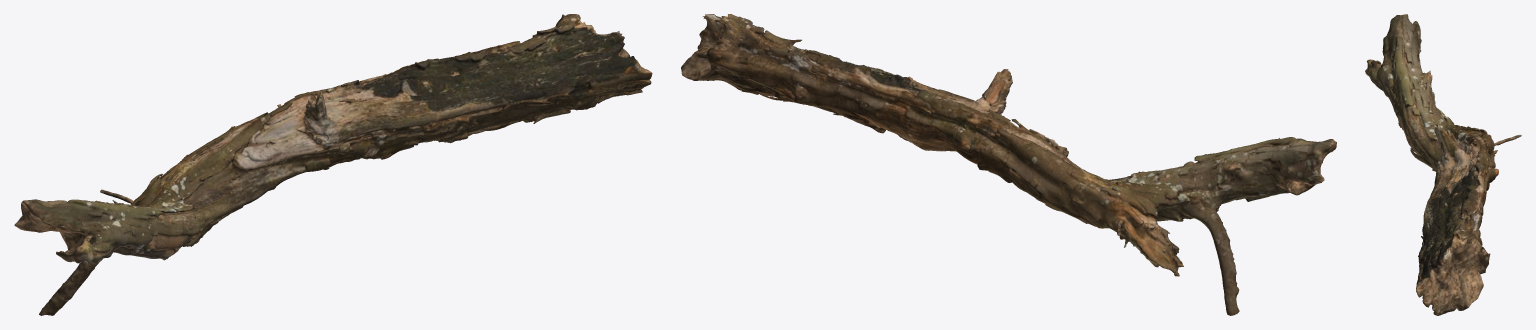
The picture shows the model from 3 angles, left to right: view 1: azimuth 30°, elevation 25°; view 2: azimuth 150°, elevation 25°; view 3: azimuth 270°, elevation 25°; orthographic projection. The views are drawn at different scales.
Visible parts, largest first — view 1: dead_tree_trunk_02; view 2: dead_tree_trunk_02; view 3: dead_tree_trunk_02.
Boxes of the visible parts, x1,y1,x2,y2 form: dead_tree_trunk_02: (14, 14, 652, 315); dead_tree_trunk_02: (681, 14, 1336, 315); dead_tree_trunk_02: (1365, 14, 1521, 315).
Size of the model in its own units: 4.05 by 1.06 by 1.06.
1 material, 1 textured.
